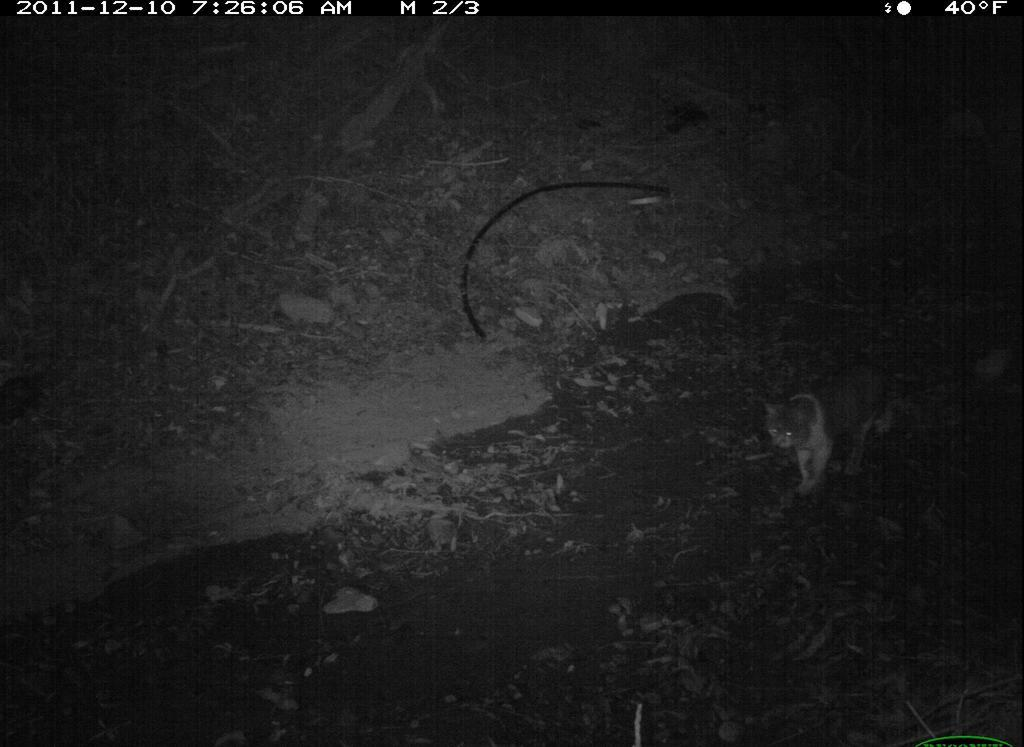cat: (748, 360, 909, 486)
